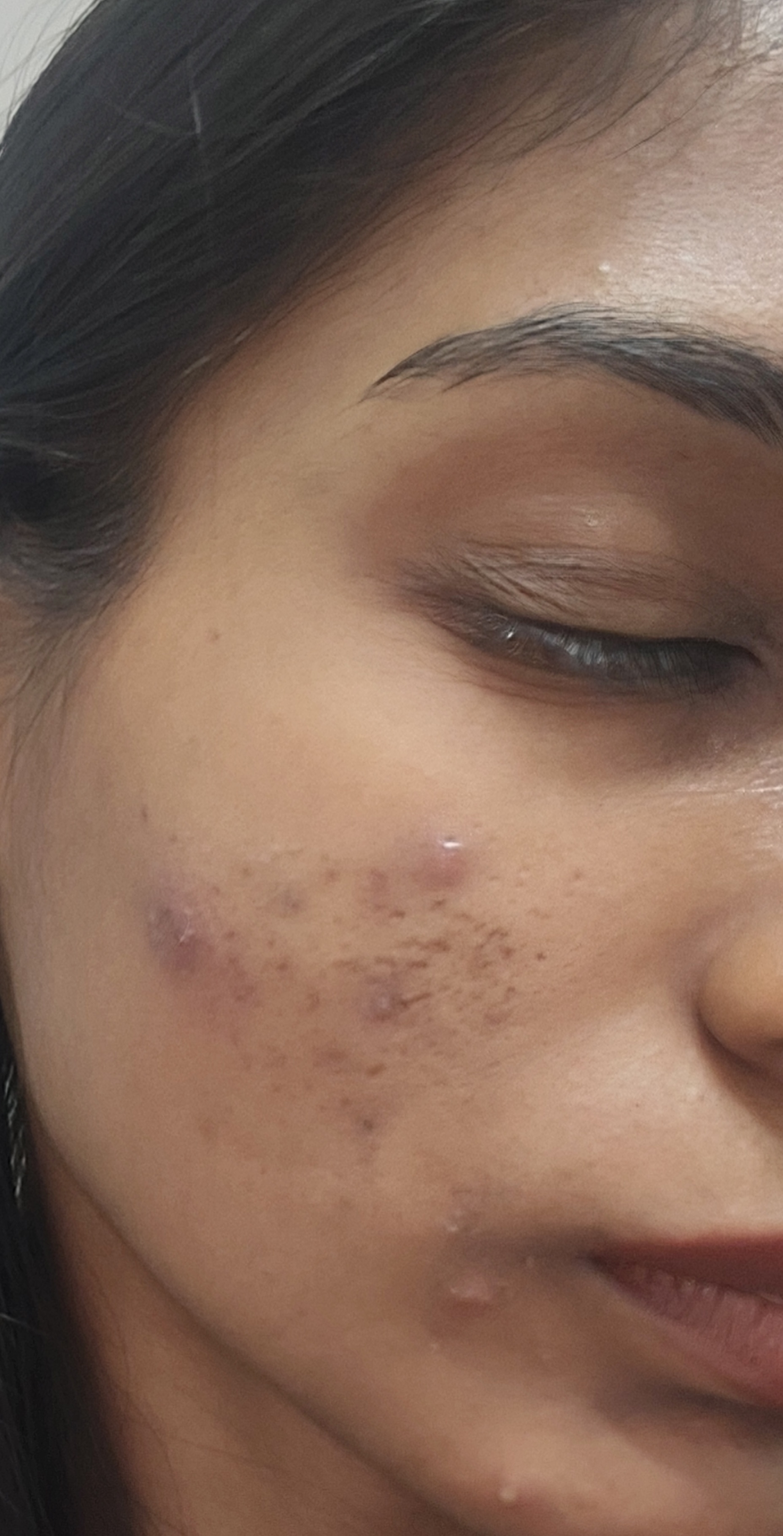papule: (135, 877, 237, 989), (419, 1250, 511, 1346), (427, 809, 490, 918), (369, 961, 429, 1044)
